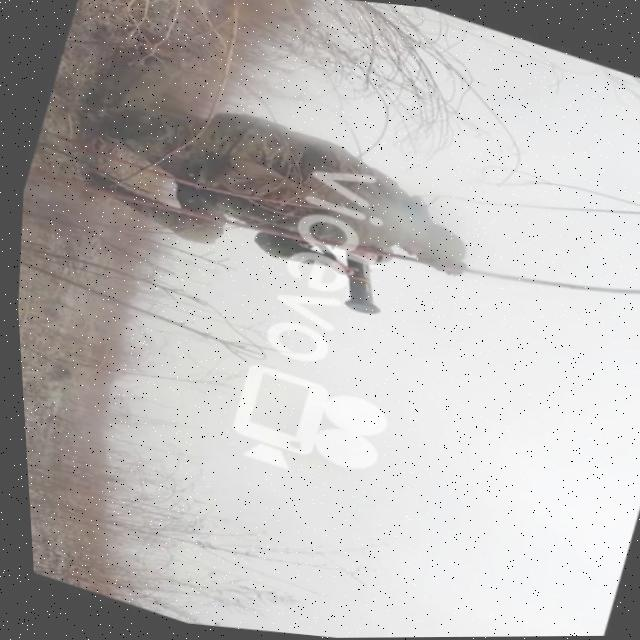rocket: (309, 245, 397, 322)
